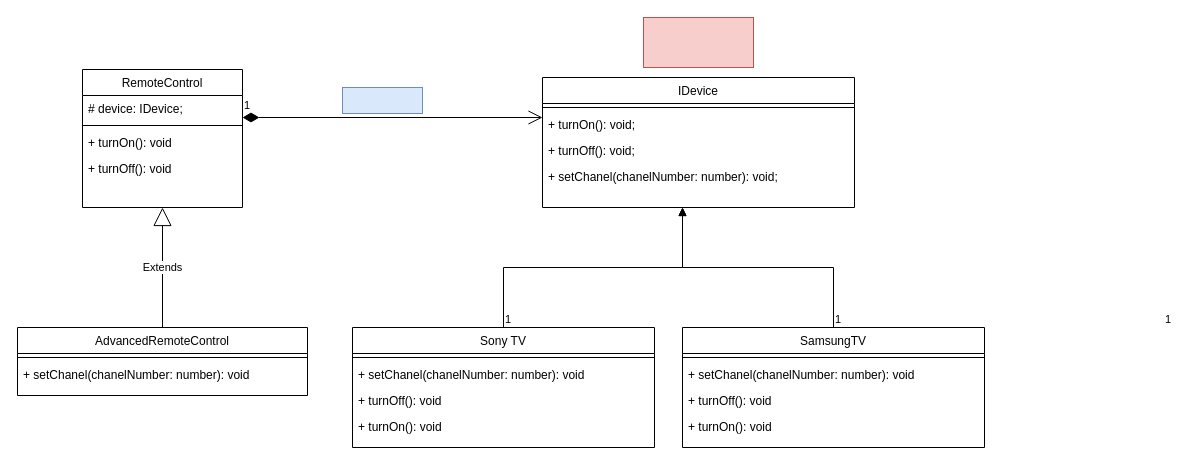
This 1189x465 diagram has some shape labels left out. Here are the shapes that lost their labels. From the top down, the centre of each, then its label:
At (x=698, y=42): "INTERFACE".
At (x=382, y=100): "Bridge".
